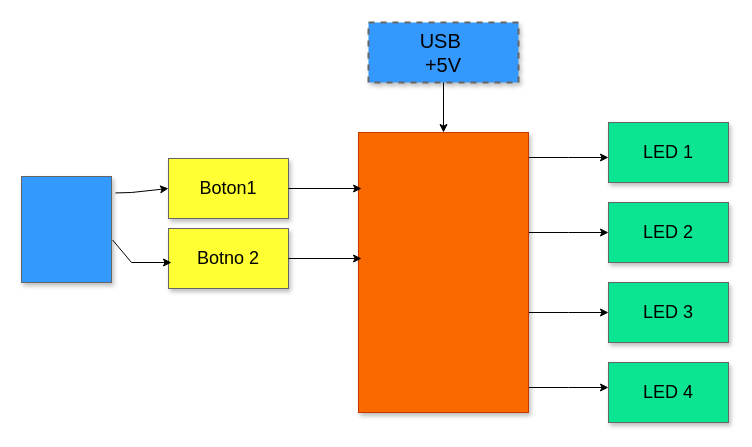
Image size: 752x447. Some labels were removed from this diagram. The centre of each missing label's shape, as x and y in pixels:
"+5 v" goes at (67,231).
"Arduino uno ATMEGA 328P" goes at (444,274).
